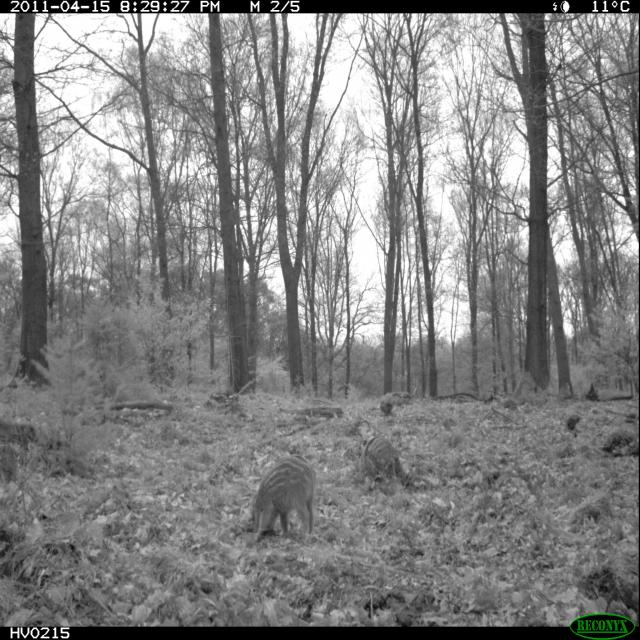boar: (232, 433, 332, 565), (350, 414, 416, 496)
